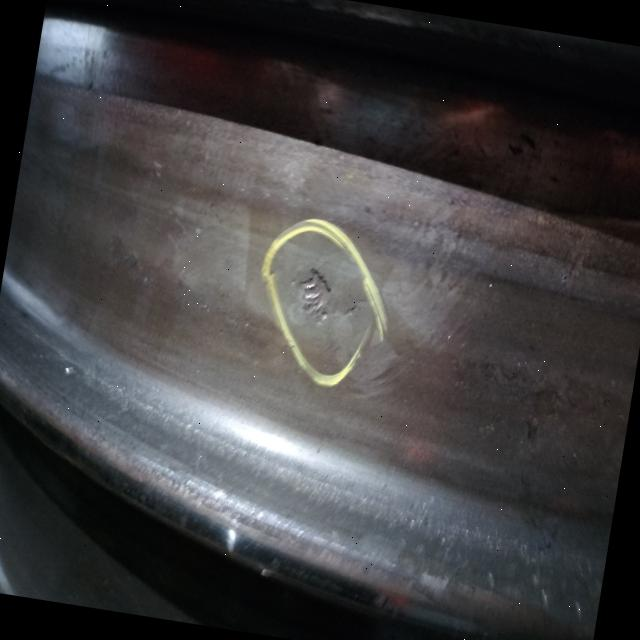Blue hole: (293, 265, 361, 338)
